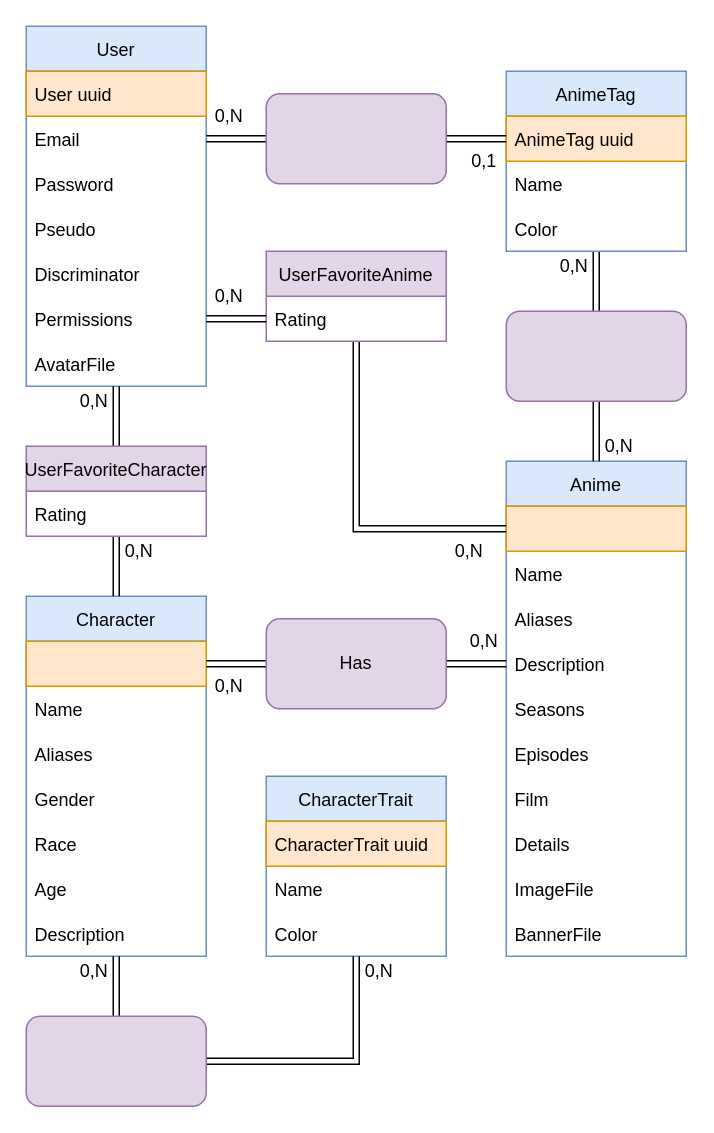
Some shapes in this 714 by 1133 pixel diagram are drawn without their labels. Here are the shapes that lost their labels. From the top down, the centre of each, then its label:
At (x=355, y=138): "Create".
At (x=595, y=355): "Categorize".
At (x=595, y=528): "Anime uuid".
At (x=115, y=663): "Character uuid".
At (x=115, y=1060): "Characterize".
